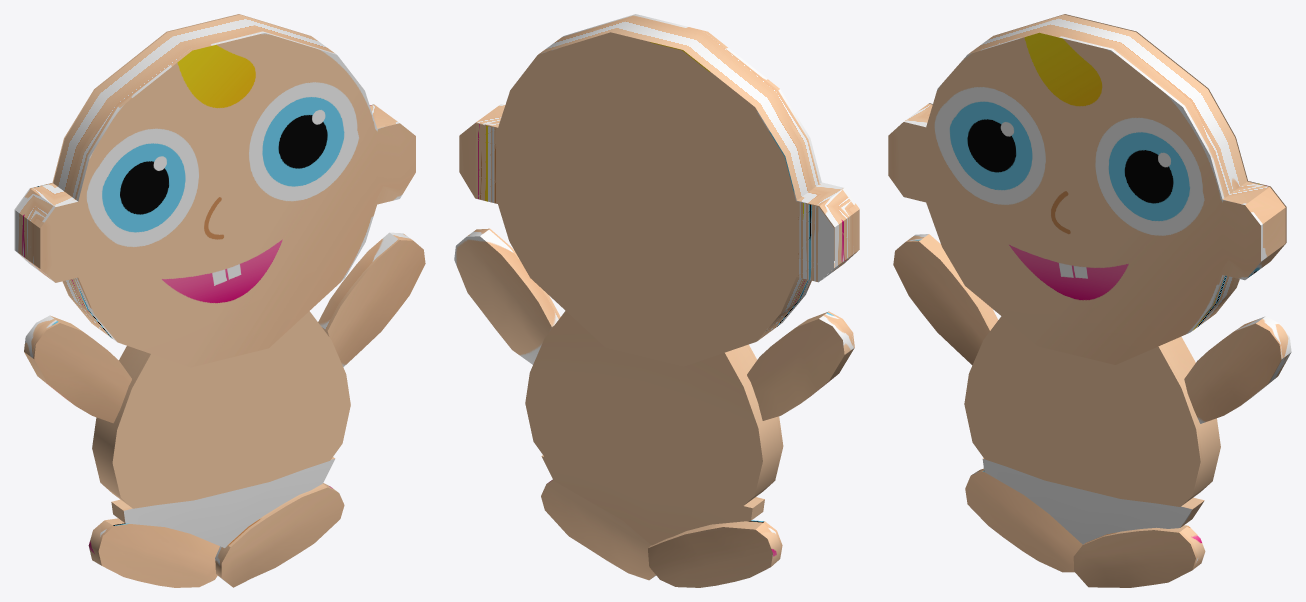
The model's file is Baby_Smiling_001.fbx.
The picture shows the model from 3 angles, left to right: view 1: azimuth 30°, elevation 25°; view 2: azimuth 150°, elevation 25°; view 3: azimuth 330°, elevation 25°; orthographic projection.
Parts seen in each view (by area): view 1: polySurface1, polySurface3, polySurface4, polySurface5, polySurface7, polySurface8, polySurface6; view 2: polySurface1, polySurface3, polySurface4, polySurface8, polySurface5, polySurface7, polySurface6; view 3: polySurface1, polySurface3, polySurface4, polySurface5, polySurface7, polySurface6, polySurface8.
Boxes of the visible parts, box(x1,y1,x2,y2) form: polySurface1: box(14, 14, 415, 367); polySurface3: box(92, 311, 350, 508); polySurface4: box(318, 232, 425, 366); polySurface5: box(24, 315, 131, 423); polySurface7: box(111, 457, 335, 547); polySurface8: box(88, 518, 219, 587); polySurface6: box(215, 483, 344, 587); polySurface1: box(459, 14, 859, 366); polySurface3: box(525, 311, 783, 506); polySurface4: box(454, 228, 560, 364); polySurface8: box(648, 520, 782, 587); polySurface5: box(747, 311, 854, 420); polySurface7: box(541, 455, 764, 545); polySurface6: box(541, 479, 655, 580); polySurface1: box(888, 14, 1286, 364); polySurface3: box(964, 316, 1220, 506); polySurface4: box(1184, 316, 1291, 423); polySurface5: box(893, 234, 997, 365); polySurface7: box(982, 458, 1204, 544); polySurface6: box(1073, 525, 1205, 587); polySurface8: box(965, 468, 1082, 572).
Bounding box in the file's own units: 22 × 29.61 × 2.51.
1 material, 1 textured.
